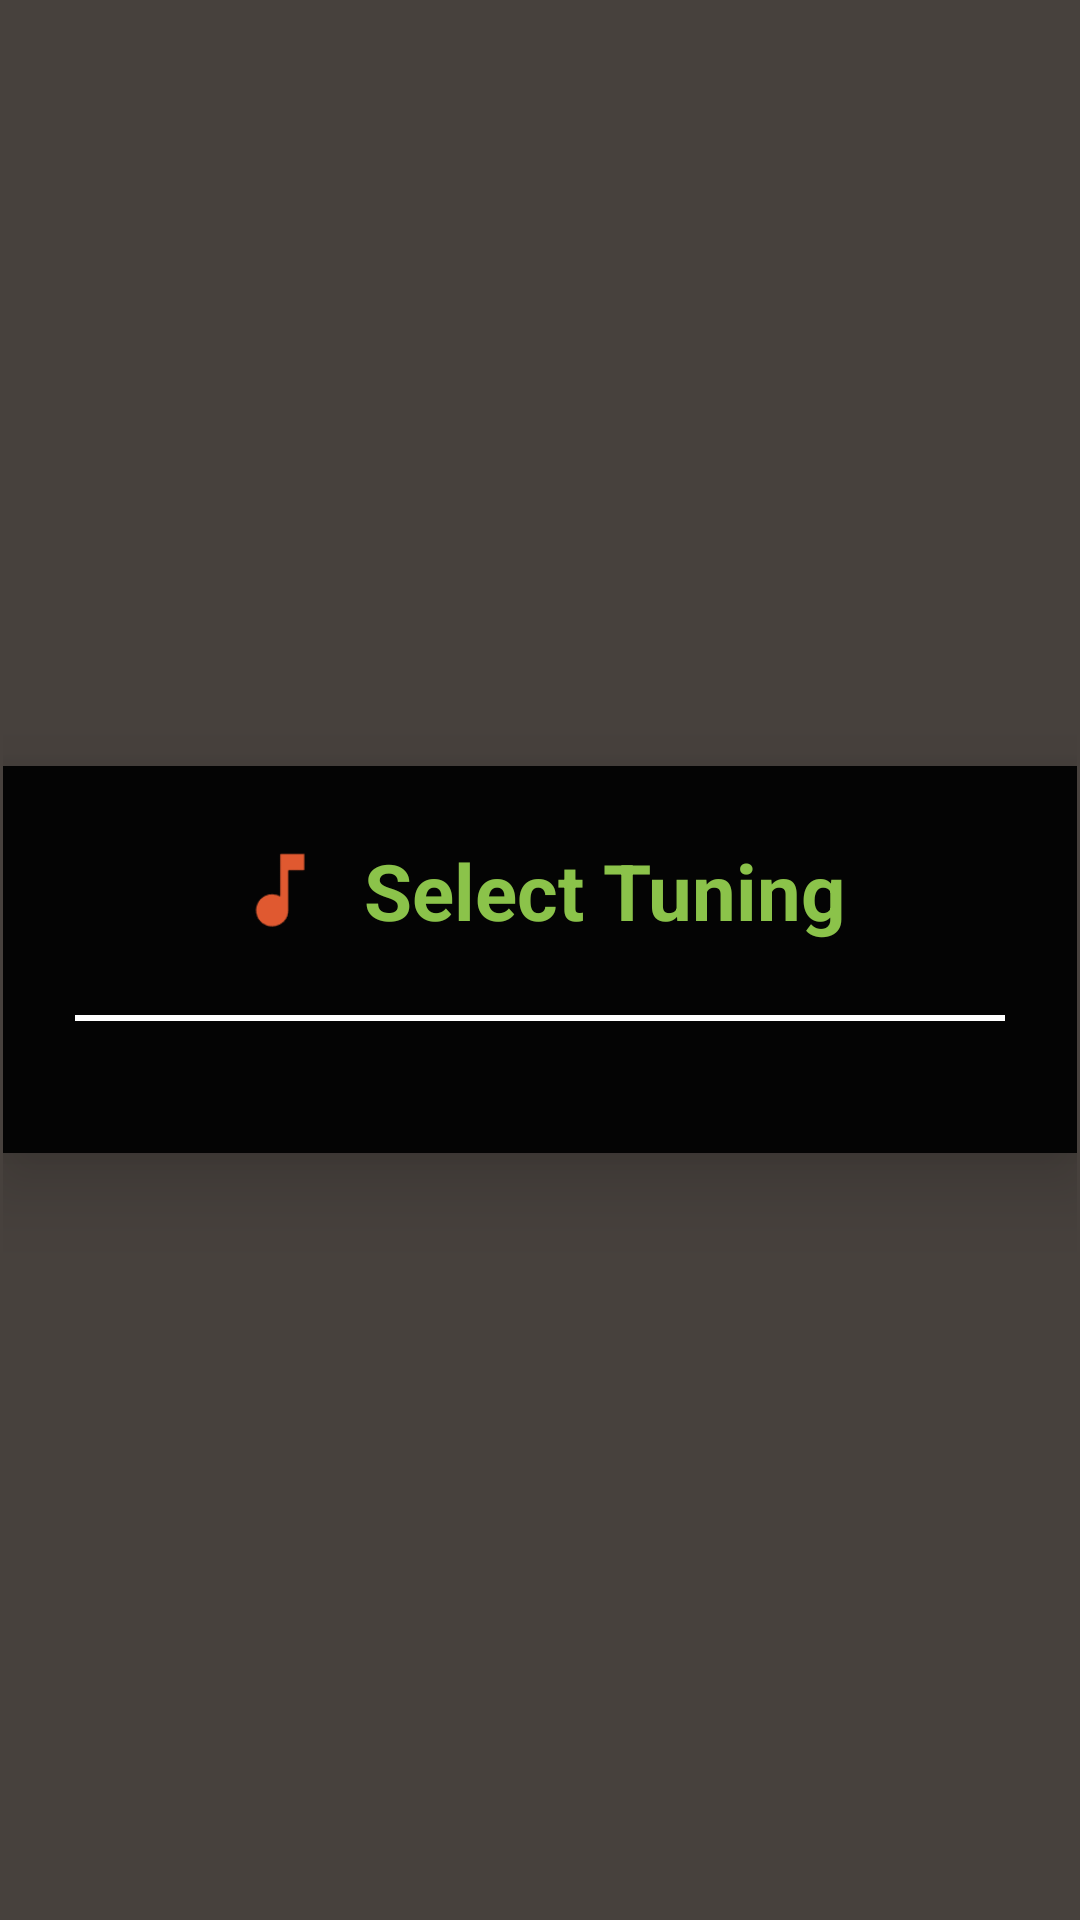

Locate icon controls on the screen. Image size 1080x1920, boxes as [x1,y1,x2,y2].
Music note icon: [255,853,305,927]
